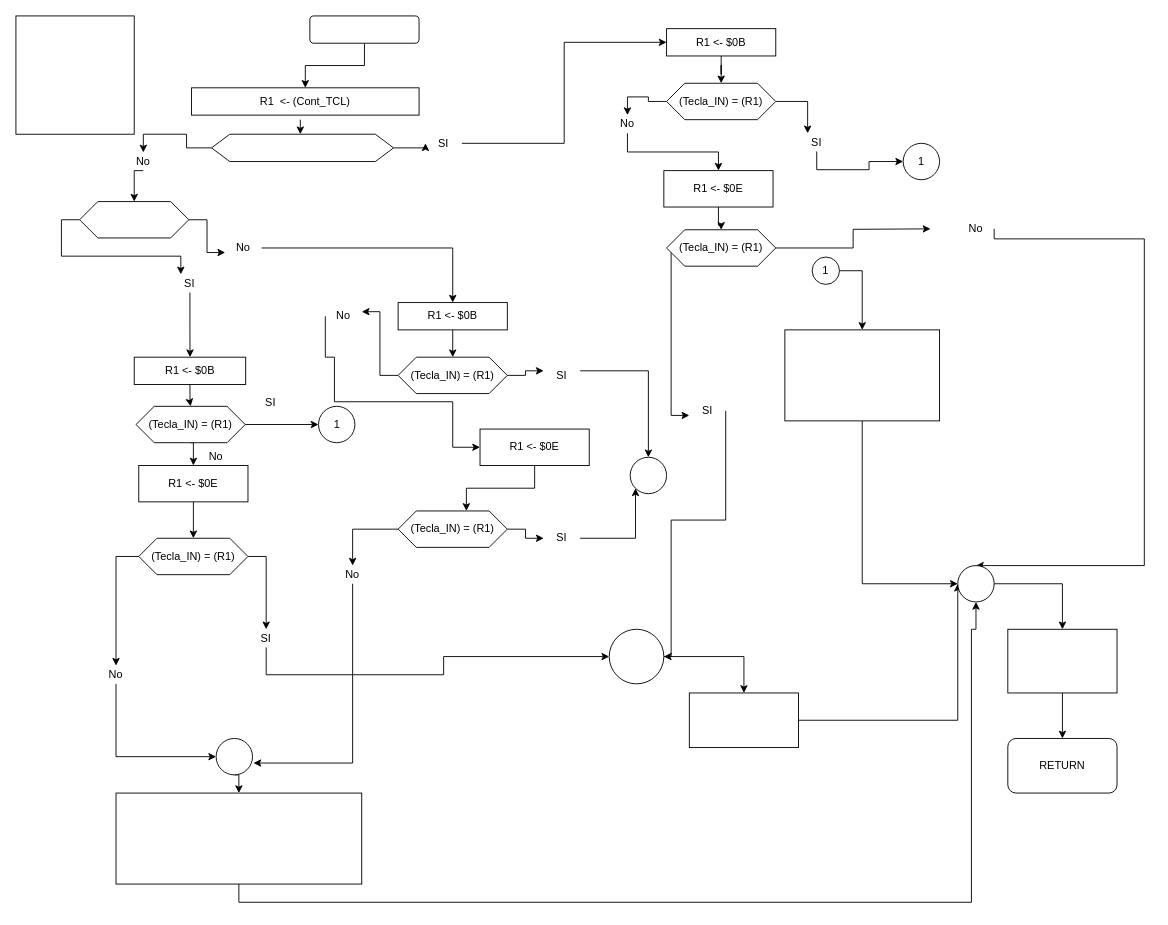
Some shapes in this 1168 by 925 pixel diagram are drawn without their labels. Each missing label, with the centre of its shape:
"BANDERAS.2 <- 1 Cont_TCL <- $00" belongs at [743,720].
"C - carry K. - Y J - X R1 - A R2 - B RR1 - D" belongs at [74,74].
"Cont_TCL <- (Cont_TCL) -1 J <- (Num_Array) R1 <- (Cont_TCL) ((J)+(R1)) <- $FF" belongs at [862,375].
"Cont_TCL = 0" belongs at [134,219].
"FORMAR_ARRAY" belongs at [364,29].
"R1 <- Cont_TCL J <- Num_Array ((J) + (R1)) <- Tecla_IN Cont_TCL <- (Cont_TCL) +1" belongs at [238,838].
"R1 = MAX_TCL" belongs at [302,147].
"Tecla_IN <- $FF" belongs at [1062,660].
